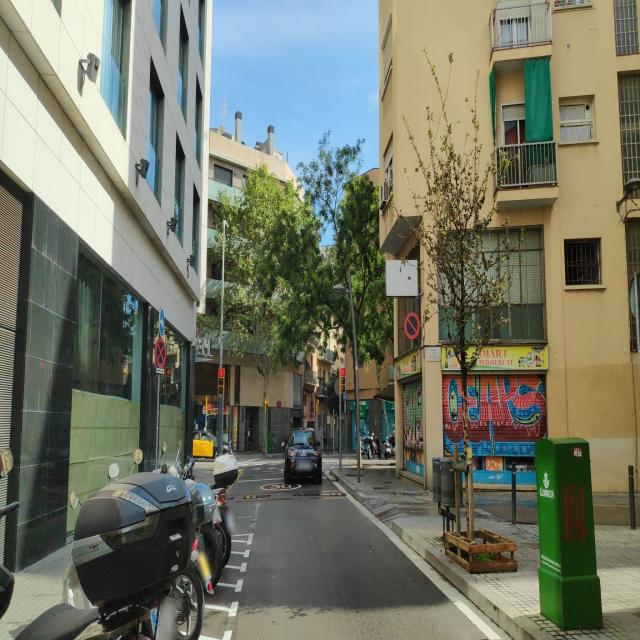bike: (58, 414, 220, 639)
car: (284, 428, 322, 485), (192, 429, 235, 458)
